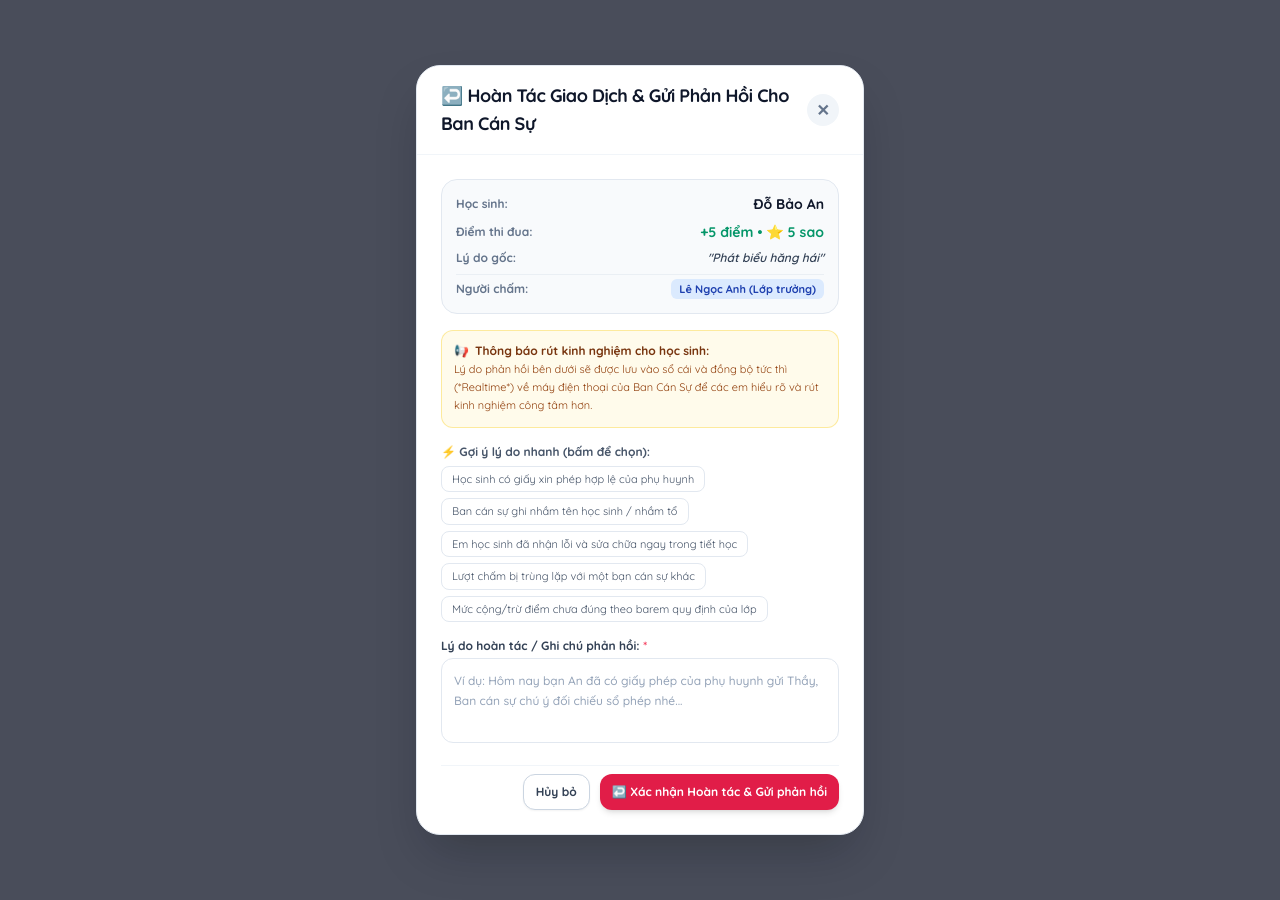
Test: ReverseTransactionModal Component › báo lỗi khi bấm gửi mà chưa nhập lý do
This screenshot has width=1280, height=900.
Click the button "↩️ Xác nhận Hoàn tác & Gửi phản hồi": point(719, 792) left=600, top=774, right=839, bottom=810
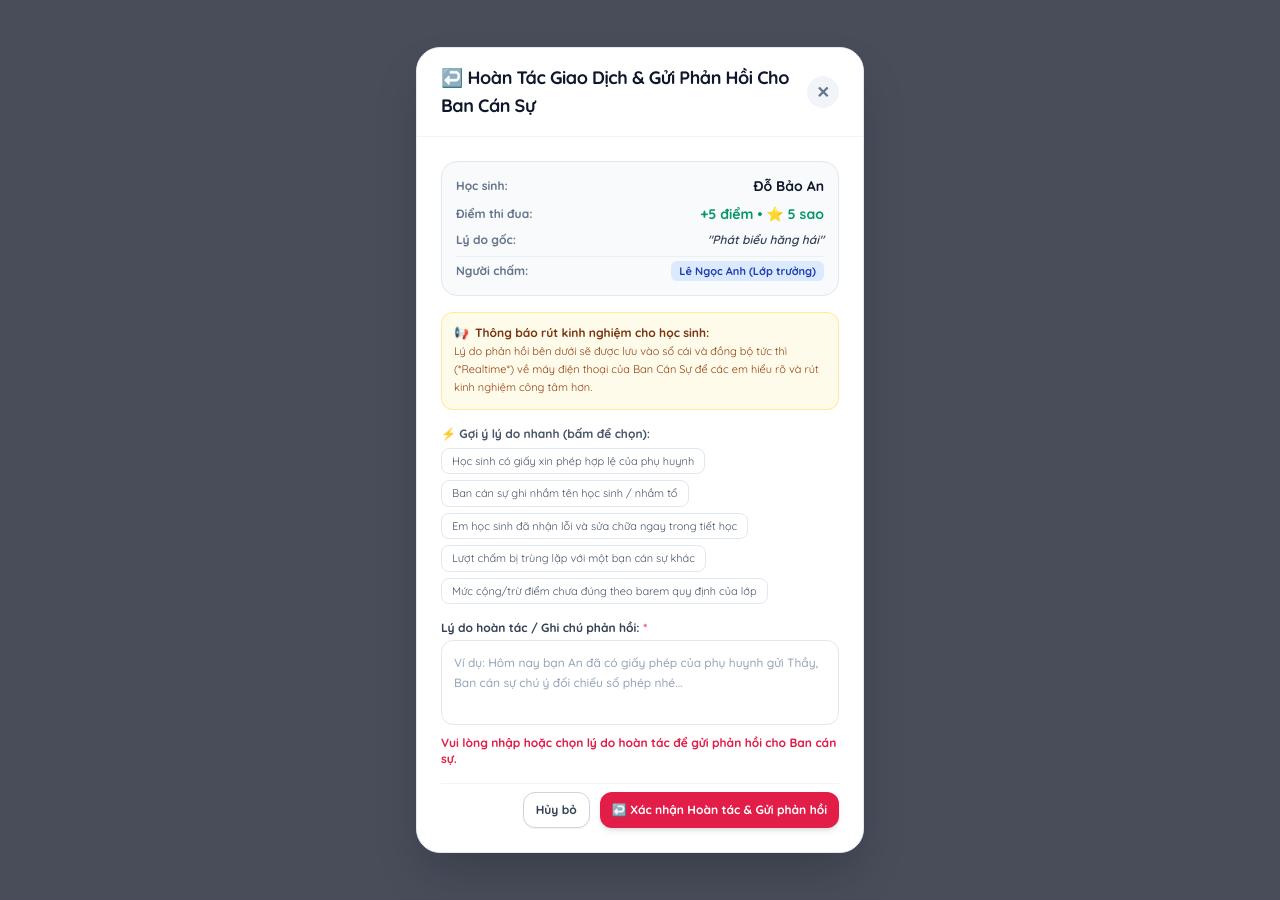
Result: the text "Vui lòng nhập hoặc chọn lý do hoàn tác" is shown at left=441, top=735, right=836, bottom=766
